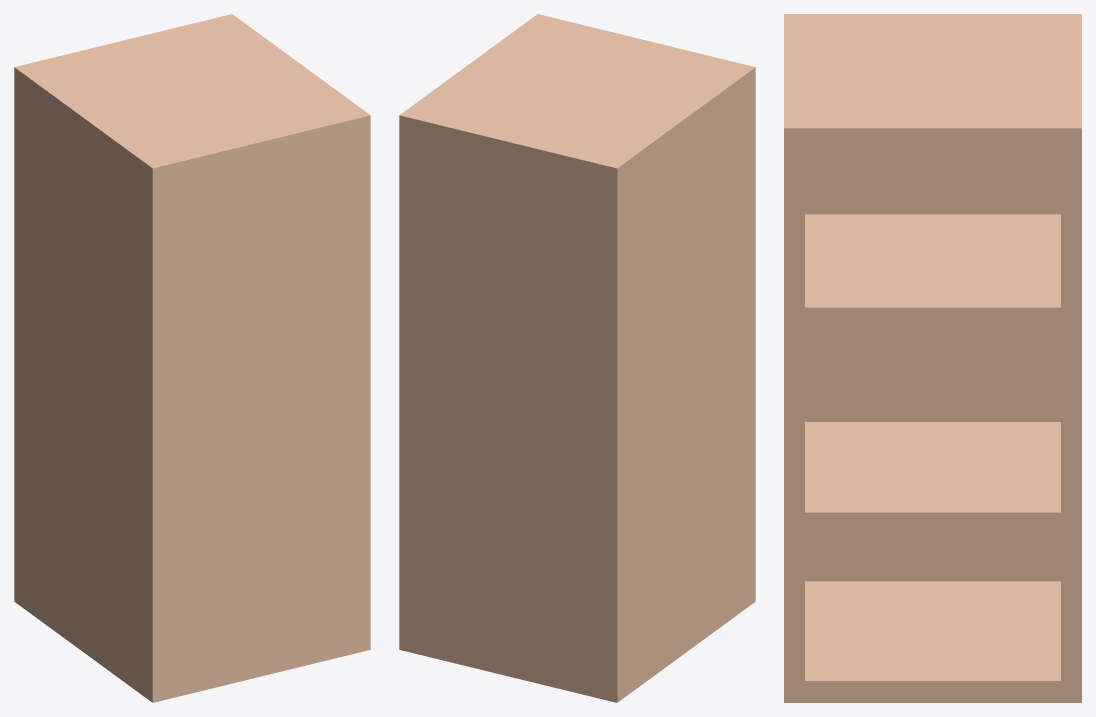
Rendered from bookshelf.fbx.
3 views of the same model, side by side, from view 1: azimuth 30°, elevation 25°; view 2: azimuth 150°, elevation 25°; view 3: azimuth 270°, elevation 25° (orthographic). The views are drawn at different scales.
Visible parts, largest first — view 1: Bookshelf1; view 2: Bookshelf1; view 3: Bookshelf1.
Part boxes in pixels (left/top/right/bottom): Bookshelf1: left=14, top=14, right=370, bottom=702; Bookshelf1: left=399, top=14, right=755, bottom=702; Bookshelf1: left=784, top=14, right=1081, bottom=702.
Size of the model in its own units: 28.23 by 66.15 by 31.06.
